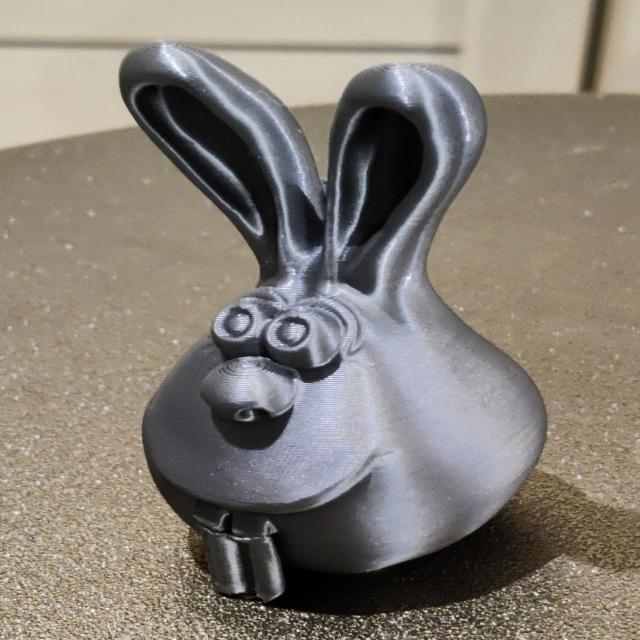Without deffect: (84, 37, 572, 609)
